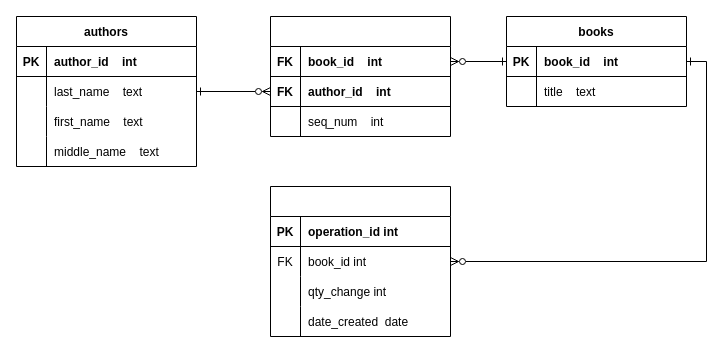
Some shapes in this 723 by 353 pixel diagram are drawn without their labels. Here are the shapes that lost their labels. From the top down, the box of each, then its label:
(270, 16, 450, 136): authorship
(270, 186, 450, 336): operations
